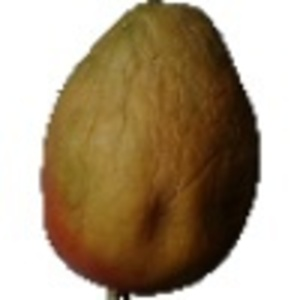mamão: (28, 2, 266, 294)
